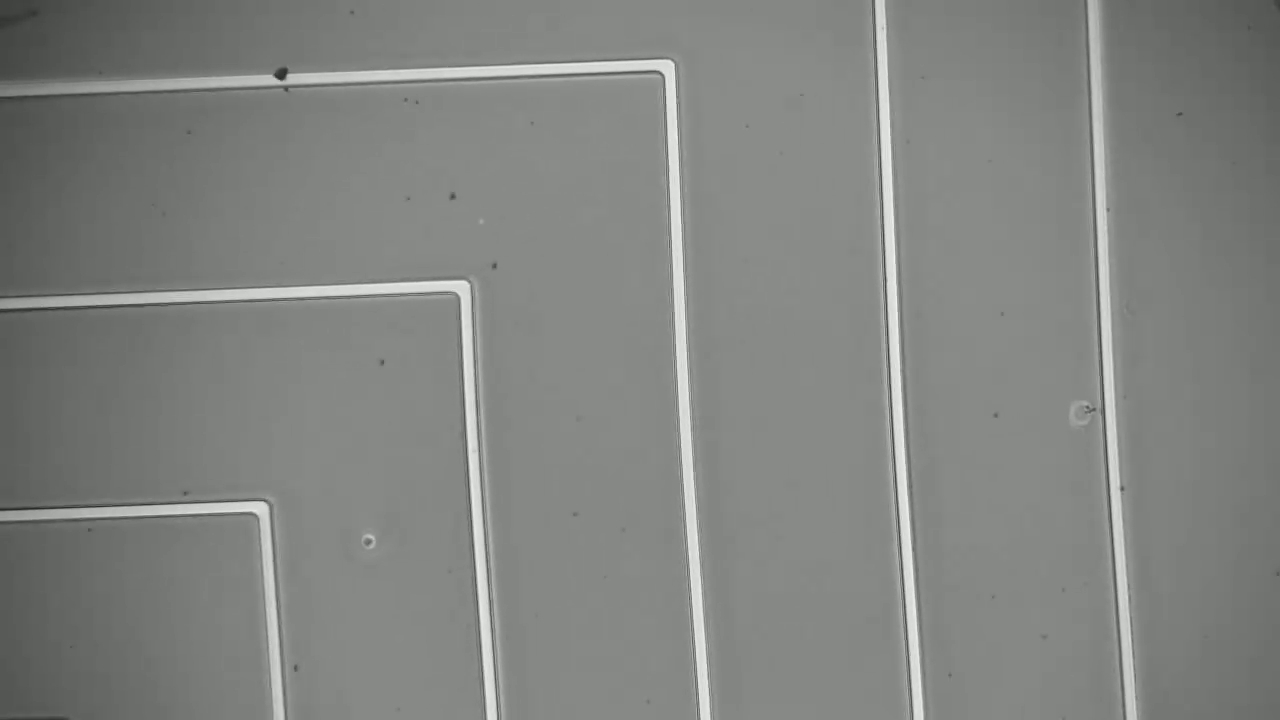stains_enbedded: (268, 63, 297, 97)
